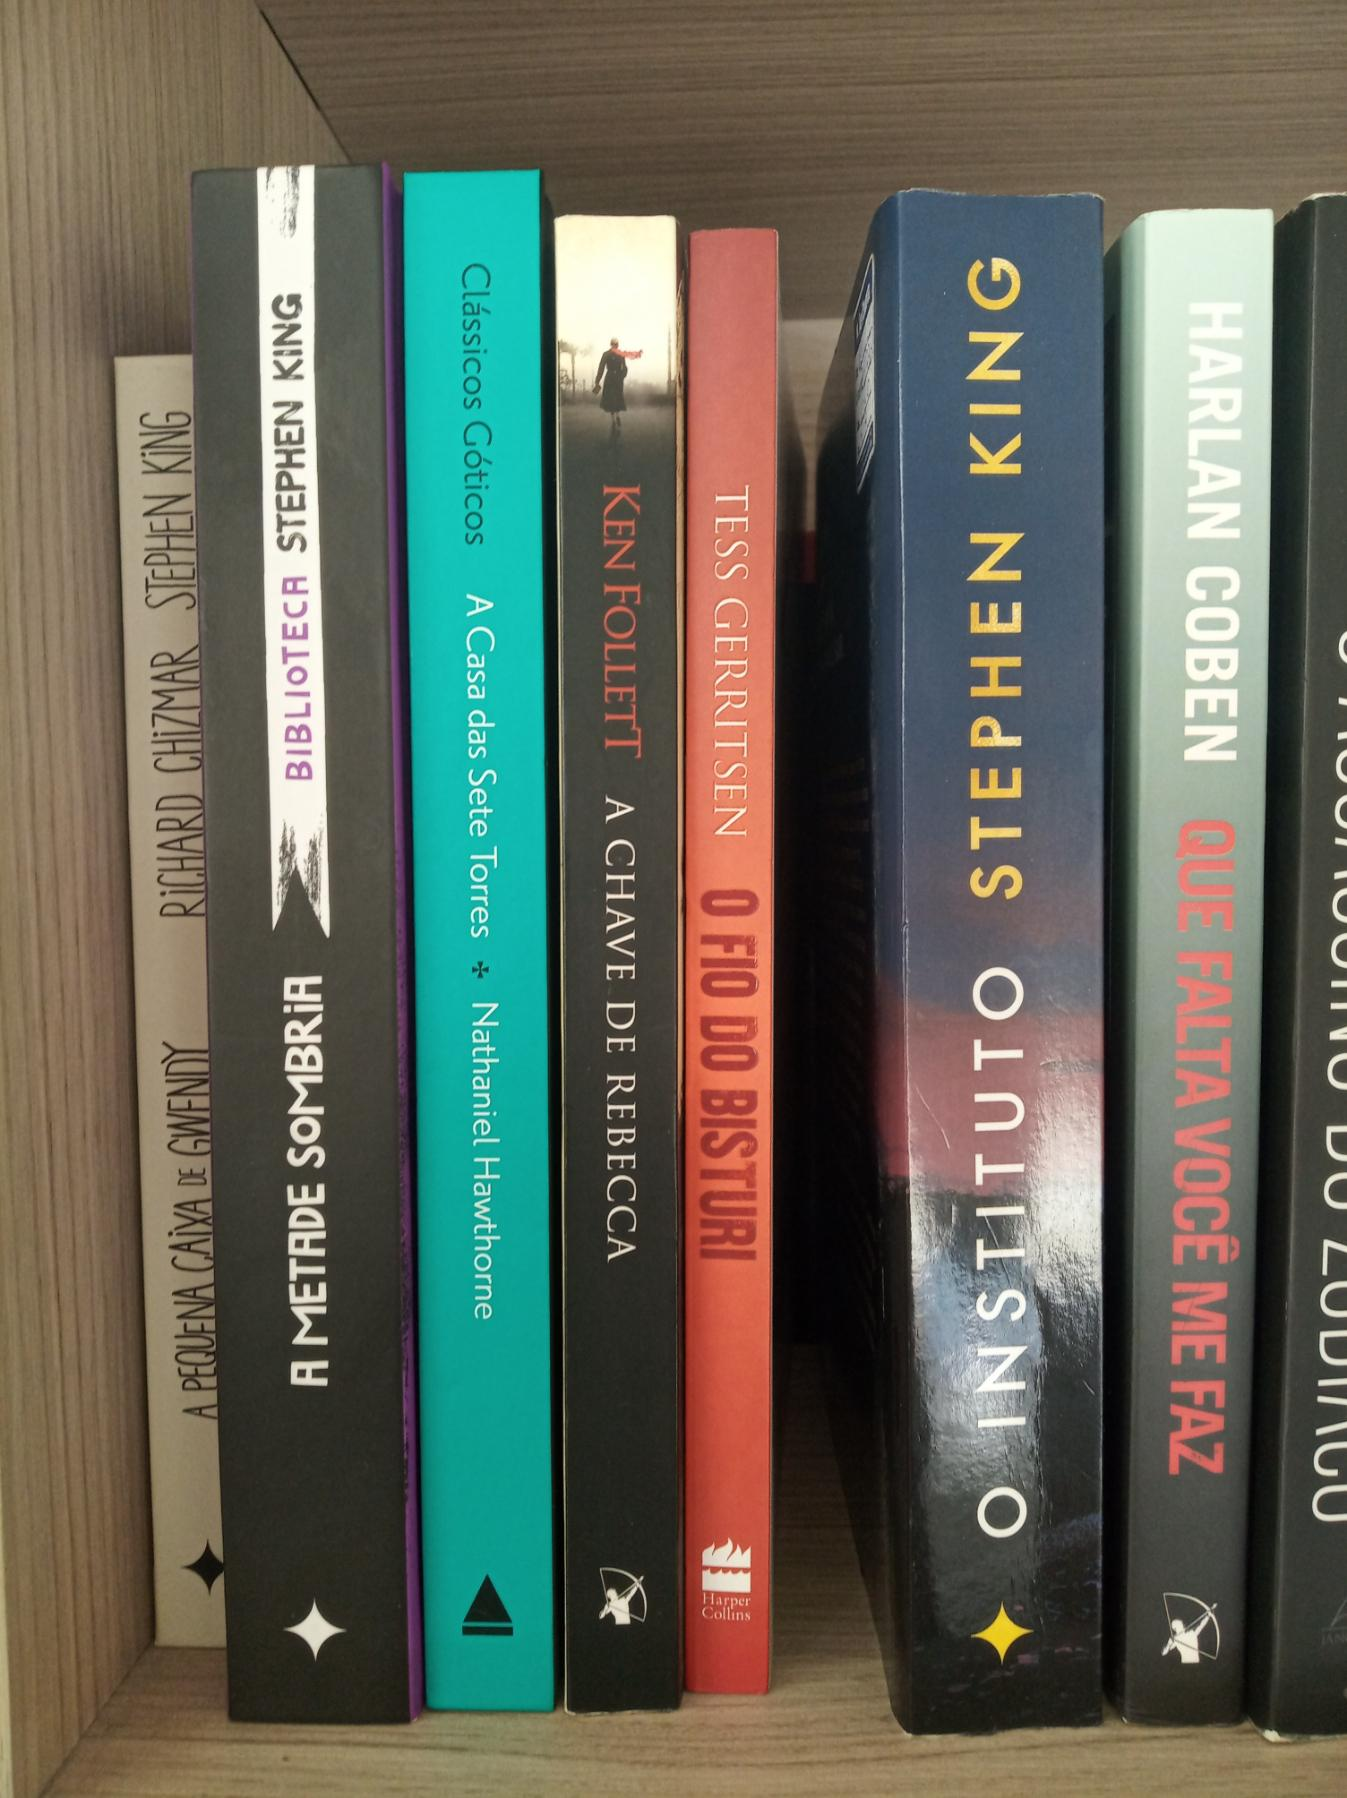book: (901, 180, 1097, 1723), (253, 180, 389, 1692), (1150, 204, 1272, 1712), (567, 218, 665, 1713), (429, 195, 526, 1690), (683, 216, 768, 1710), (1296, 216, 1347, 1715), (151, 402, 181, 1647)
